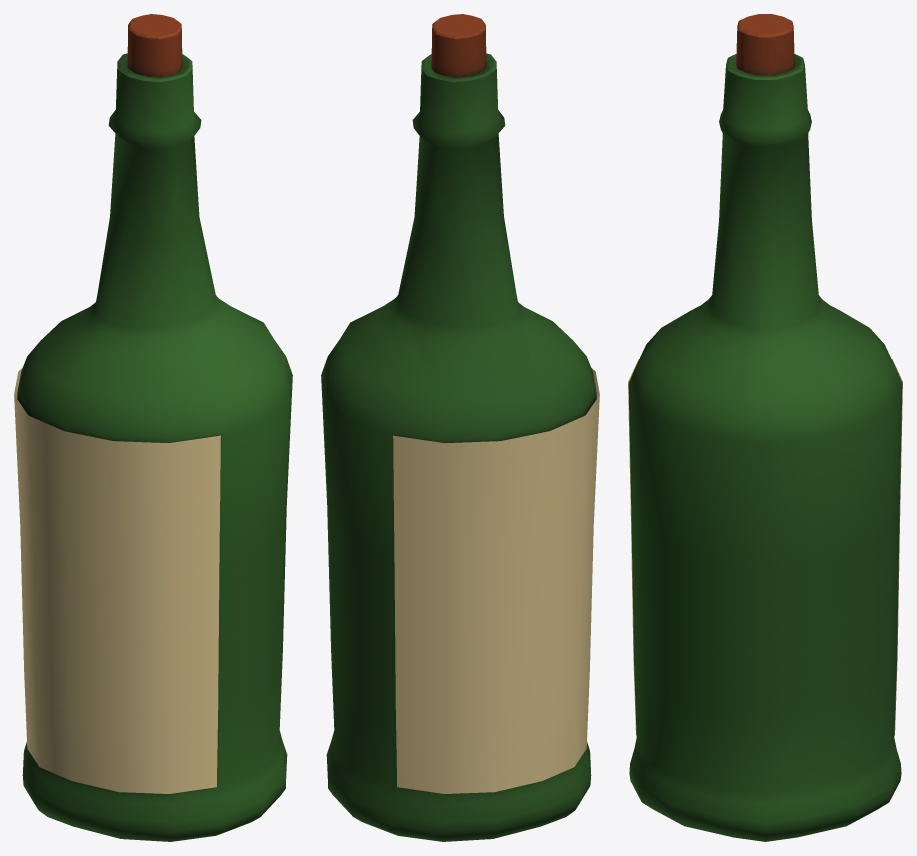
File: Low Poly Bottle.fbx
3 views of the same model, side by side, from view 1: azimuth 30°, elevation 25°; view 2: azimuth 150°, elevation 25°; view 3: azimuth 270°, elevation 25° (orthographic).
Parts seen in each view (by area): view 1: RattlesnakeWhiskey_Mesh, RattlesnakeLabel_Mesh, WhiskeyCork_Mesh; view 2: RattlesnakeWhiskey_Mesh, RattlesnakeLabel_Mesh, WhiskeyCork_Mesh; view 3: RattlesnakeWhiskey_Mesh, WhiskeyCork_Mesh, RattlesnakeLabel_Mesh.
Boxes of the visible parts, x1,y1,x2,y2 form: RattlesnakeWhiskey_Mesh: (17, 53, 292, 841); RattlesnakeLabel_Mesh: (14, 368, 220, 793); WhiskeyCork_Mesh: (127, 14, 182, 77); RattlesnakeWhiskey_Mesh: (321, 53, 596, 841); RattlesnakeLabel_Mesh: (393, 368, 599, 793); WhiskeyCork_Mesh: (431, 14, 486, 77); RattlesnakeWhiskey_Mesh: (628, 54, 902, 841); WhiskeyCork_Mesh: (736, 14, 794, 75); RattlesnakeLabel_Mesh: (628, 359, 902, 735).
Bounding box in the file's own units: 38.07 × 113 × 36.23.
4 materials, 4 textured.
